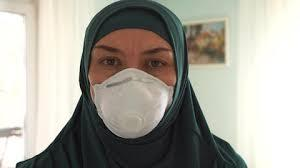Wearing Mask: (63, 0, 214, 161)
